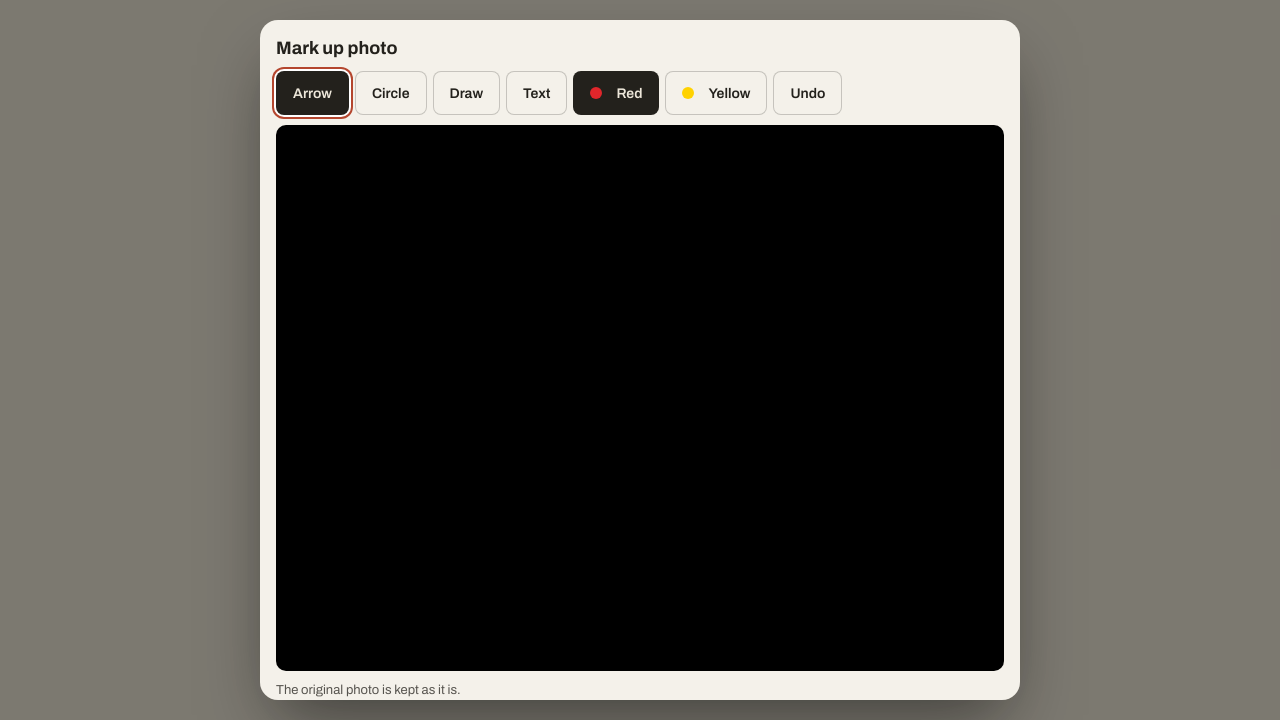
photo markup: the editor › never hands on a copy over the upload ceiling
This screenshot has width=1280, height=720.
Press the mouse on the drawing with test id "photo-markup-canvas" at [640, 398], box [276,125,1004,671]
(page scrolled)
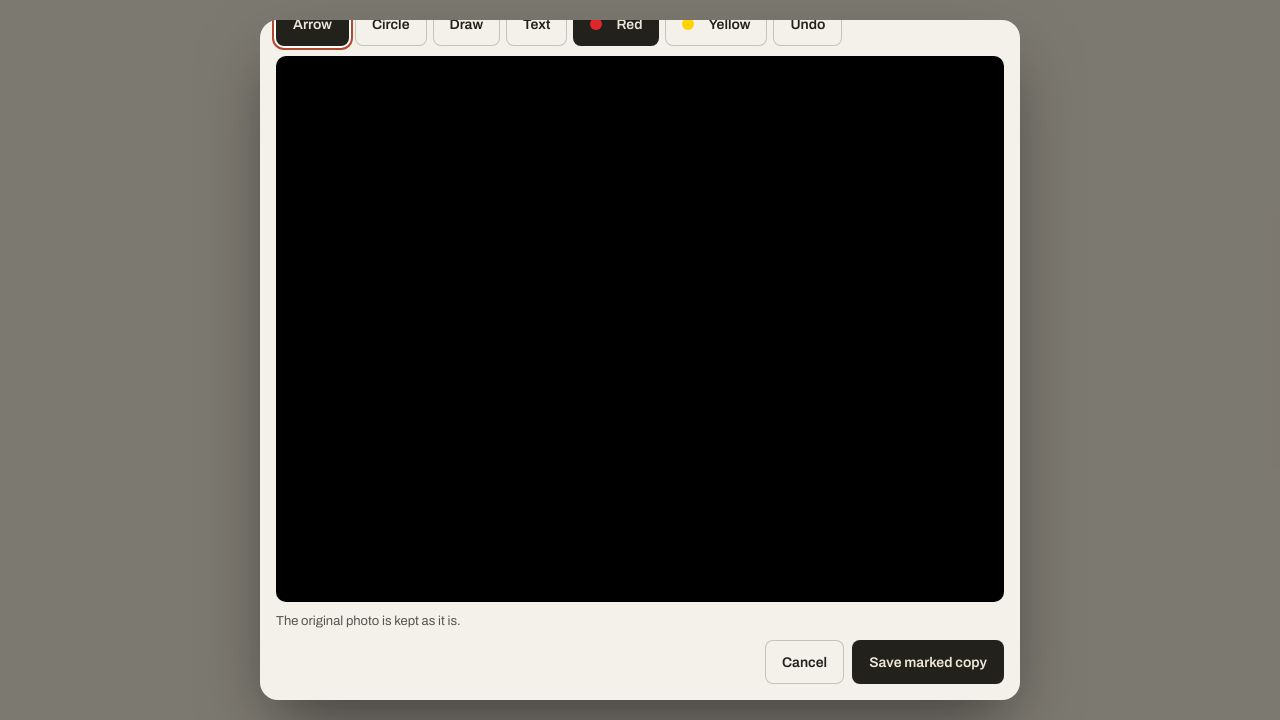
Click the button "Save marked copy".
click(928, 662)  # box [852,640,1004,684]
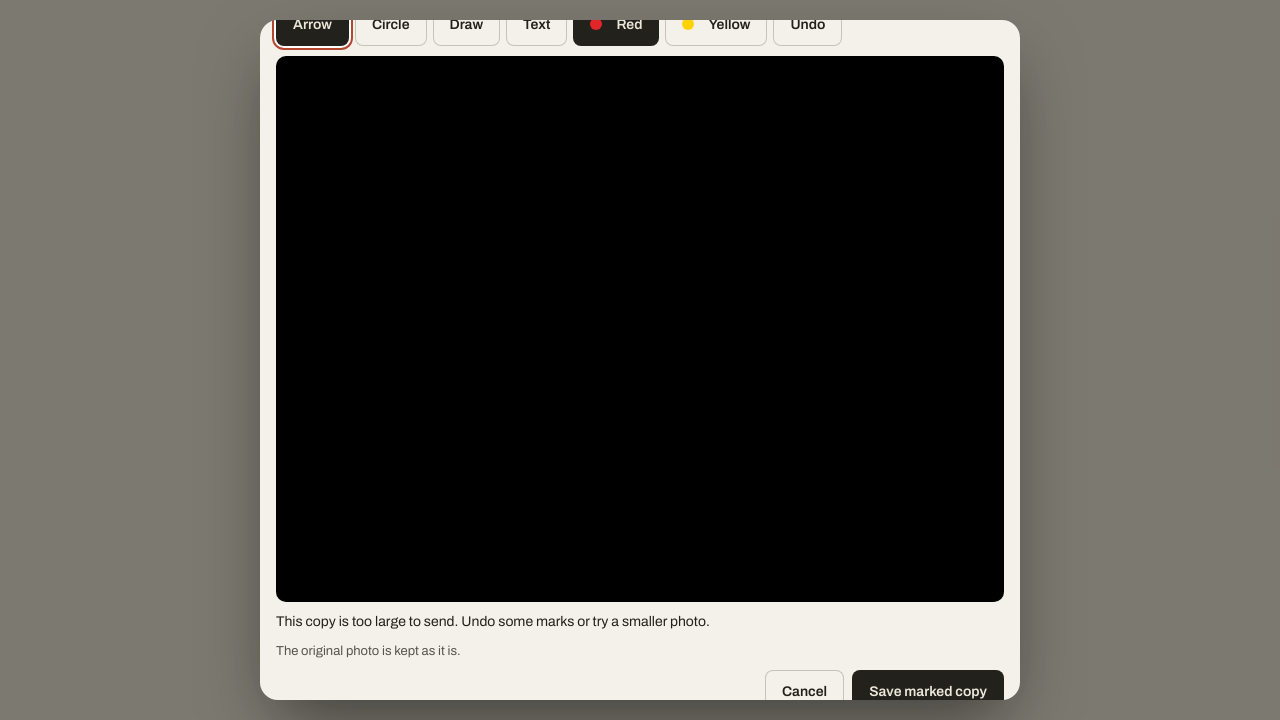
Now the message reads "This copy is too large to send. Undo some marks or try a smaller photo.", box [276,614,710,629]
